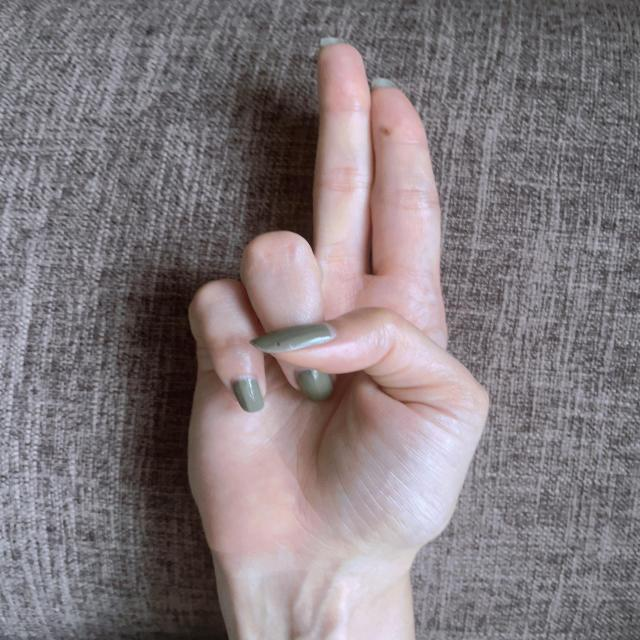U: (182, 38, 496, 550)
